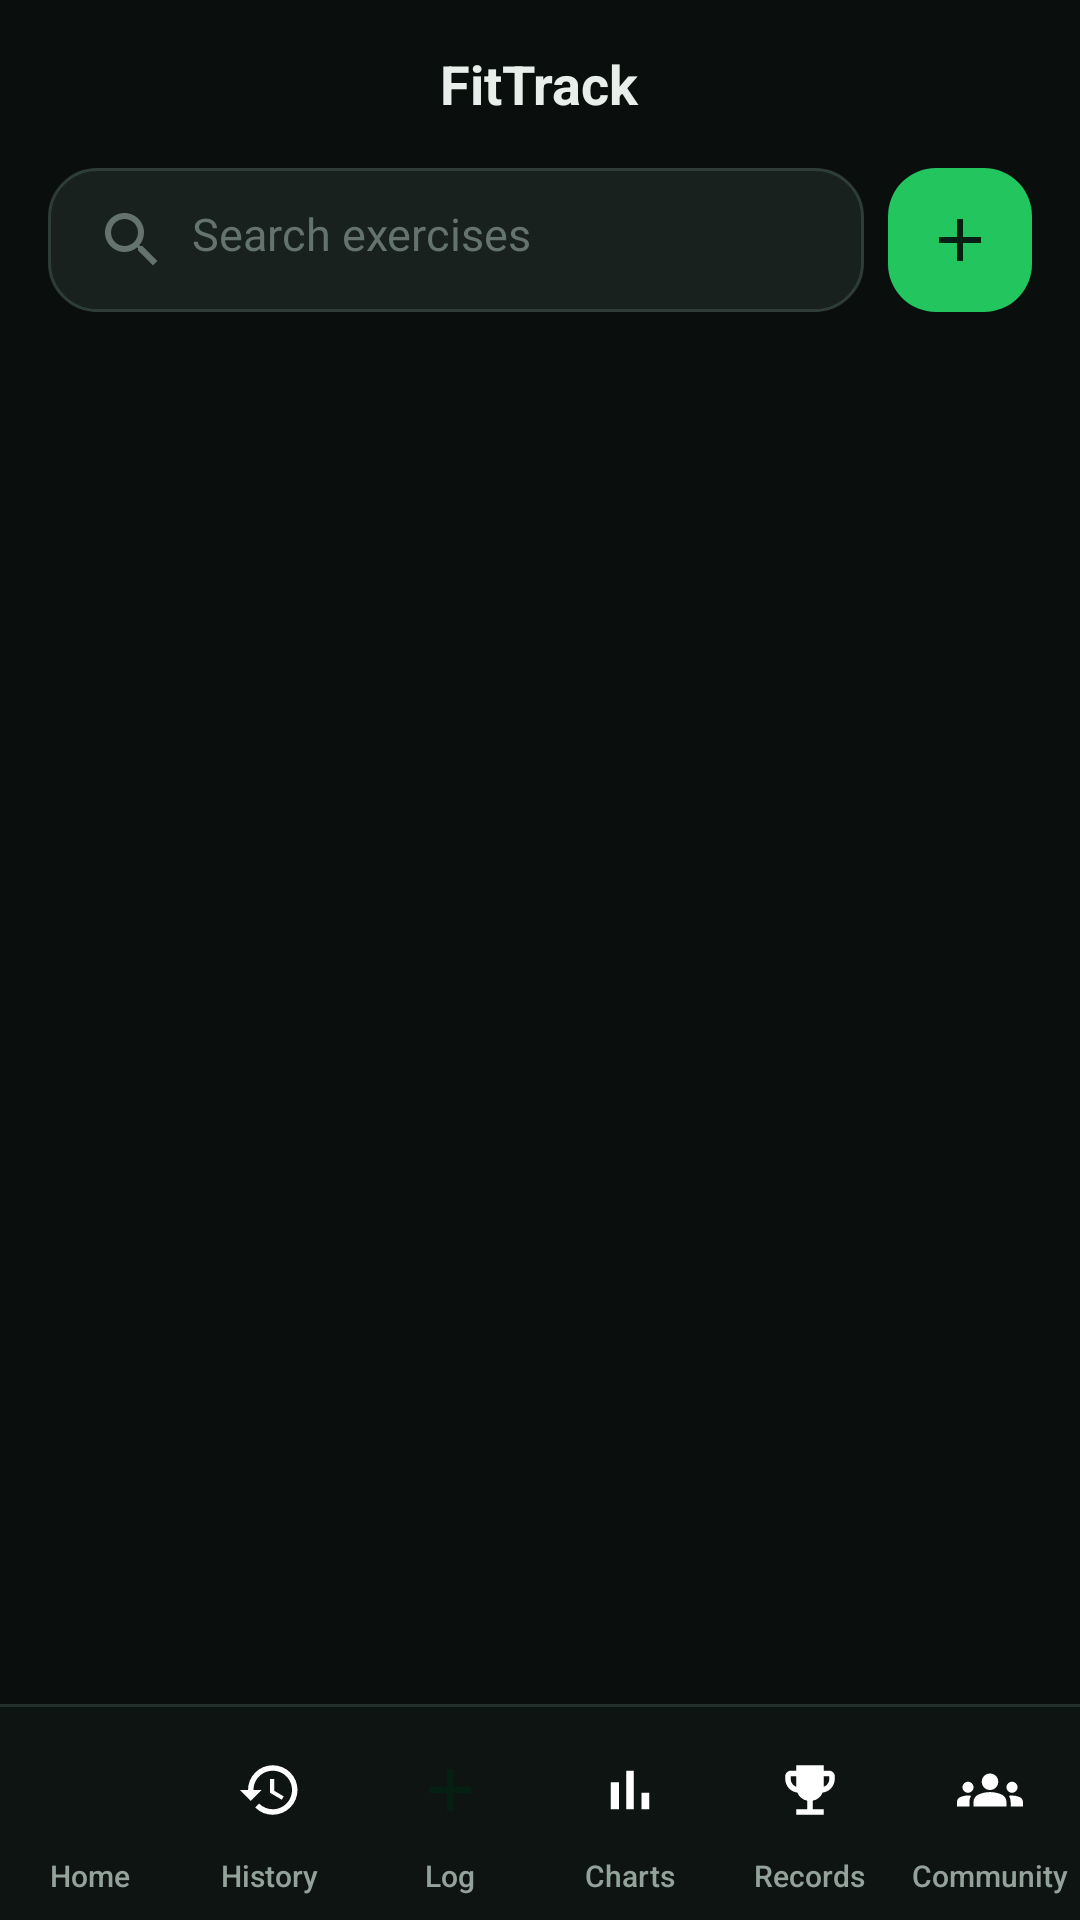

Icon click points for this 1080*1920 phone screenshot, format point (x, y):
Create a custom exercise: point (960, 240)
